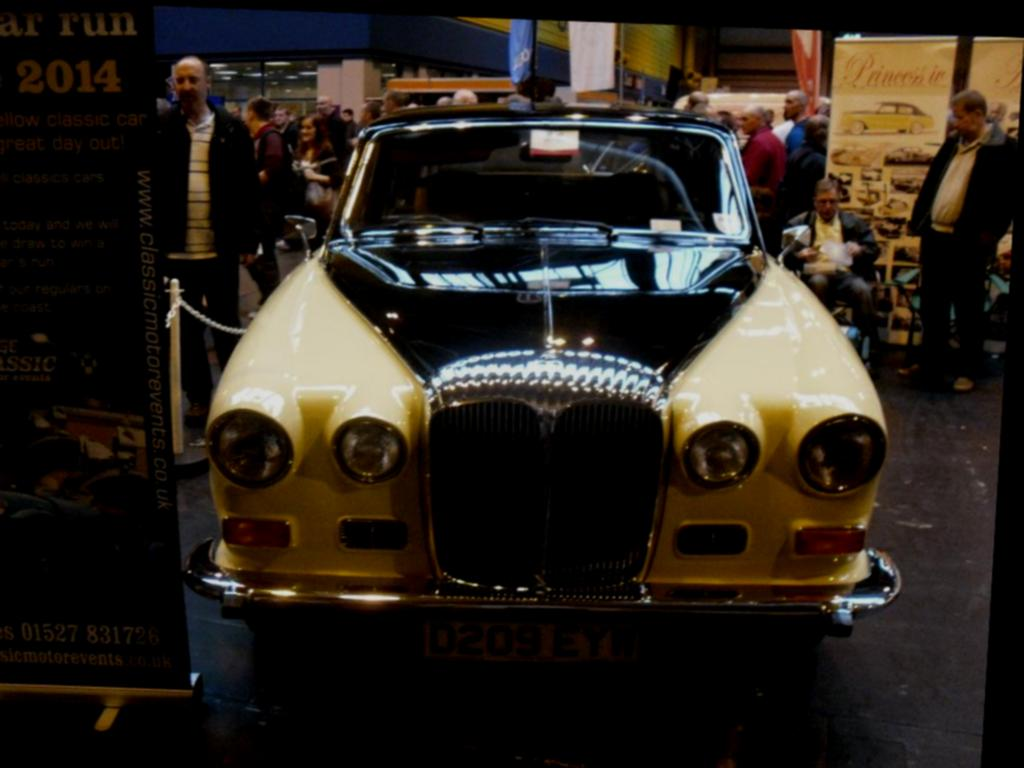License_Plate: (419, 614, 642, 668)
